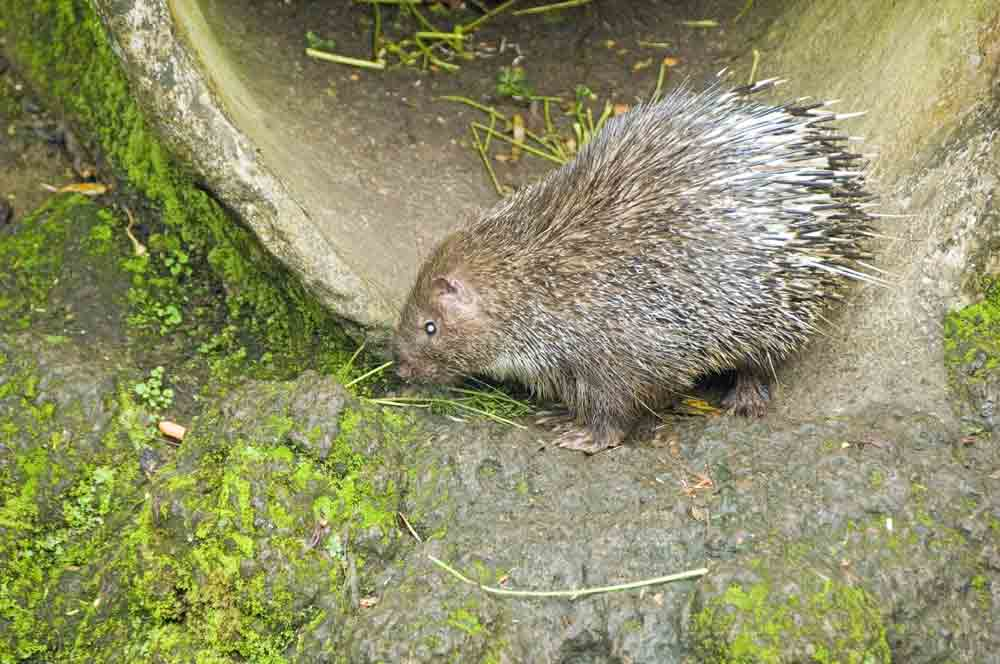porcupine: (359, 70, 921, 464)
